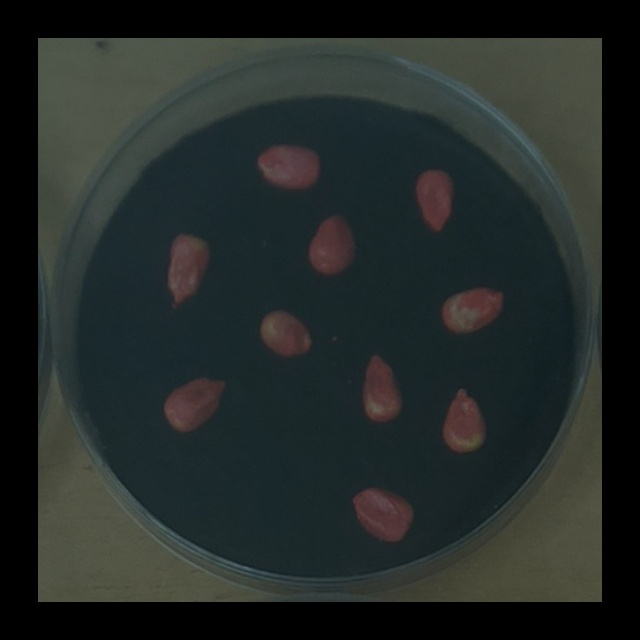Zea mays: (347, 480, 422, 549), (157, 371, 231, 437), (162, 226, 217, 312), (435, 279, 512, 340), (302, 205, 363, 280), (251, 136, 327, 195), (436, 381, 493, 459), (356, 348, 409, 427), (253, 304, 319, 364), (408, 163, 460, 238)
